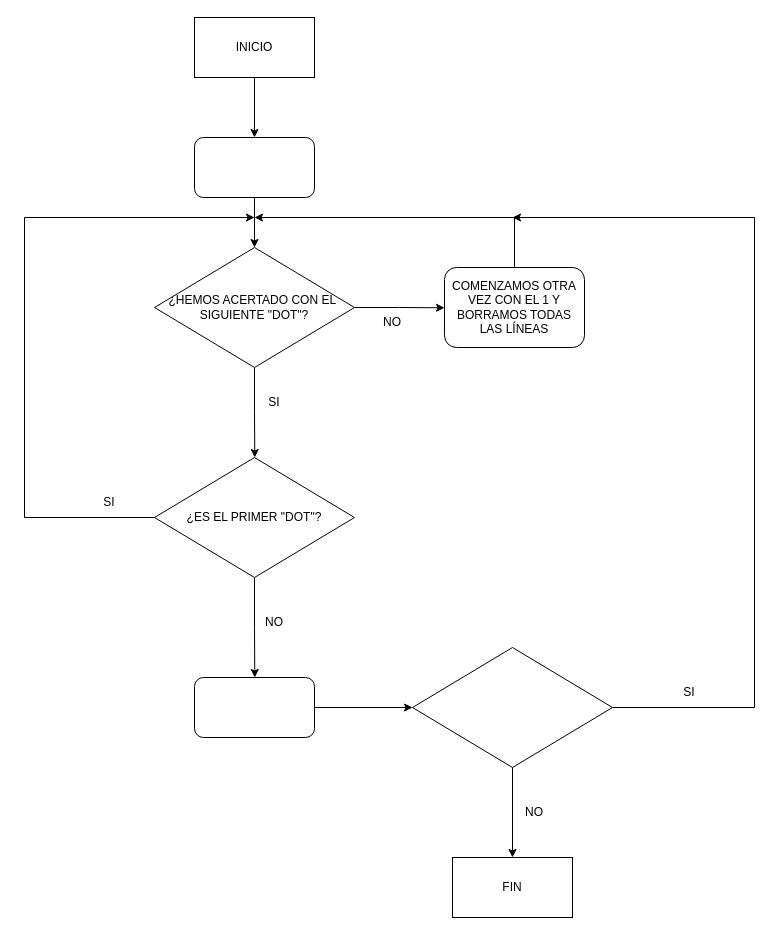
This 780x935 diagram has some shape labels left out. The shapes that lost their labels are listed below. From the top down, each one's box as (x1, y1, x2, y2) in pixels, then its label:
(194, 136, 314, 198): COLOCAR "DOT"
(194, 676, 314, 738): DIBUJAR LÍNEA
(412, 646, 612, 768): ¿QUEDA ALGÚN "DOT"?
